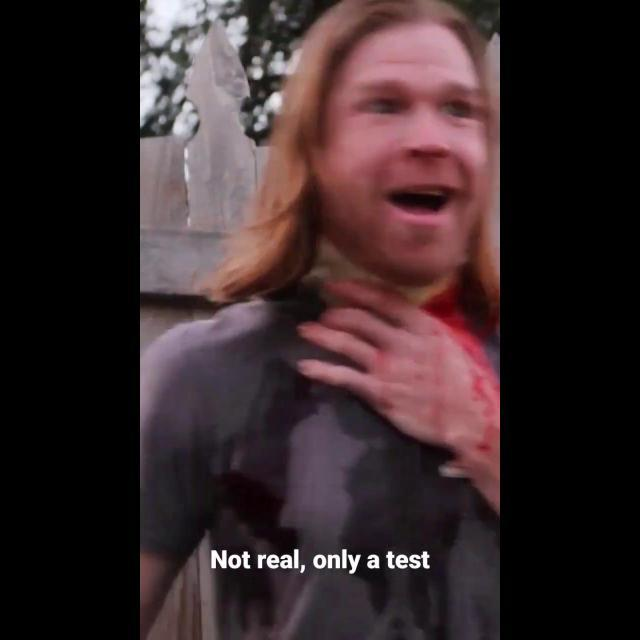blood: (421, 285, 500, 510)
